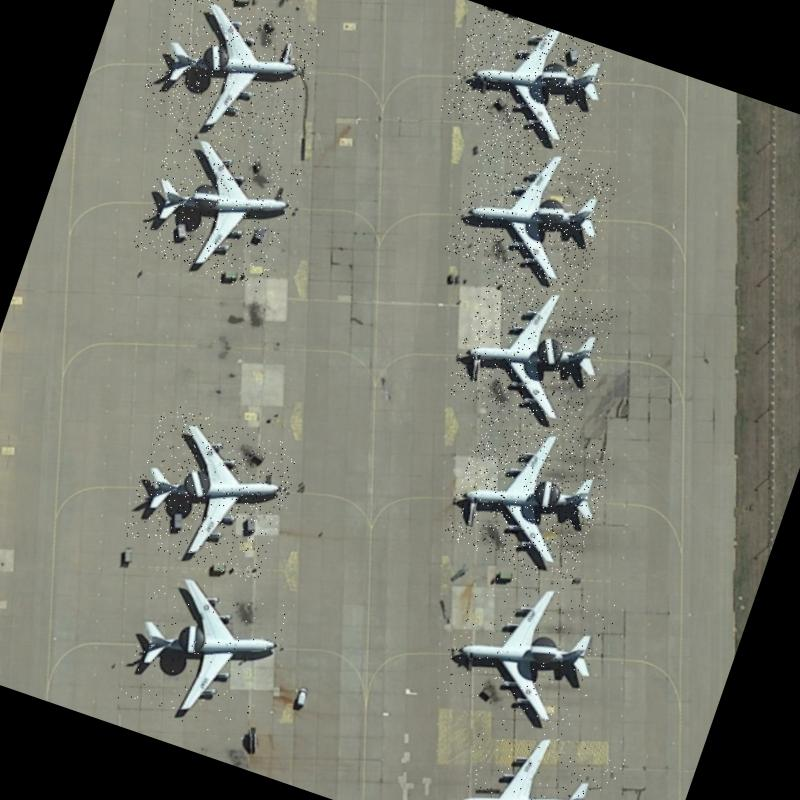A7: (433, 556, 620, 740), (119, 401, 304, 584), (440, 405, 618, 585), (116, 564, 292, 745), (444, 126, 622, 298), (445, 264, 619, 438), (136, 0, 325, 158), (131, 126, 304, 296), (439, 3, 614, 160), (443, 711, 625, 800)
